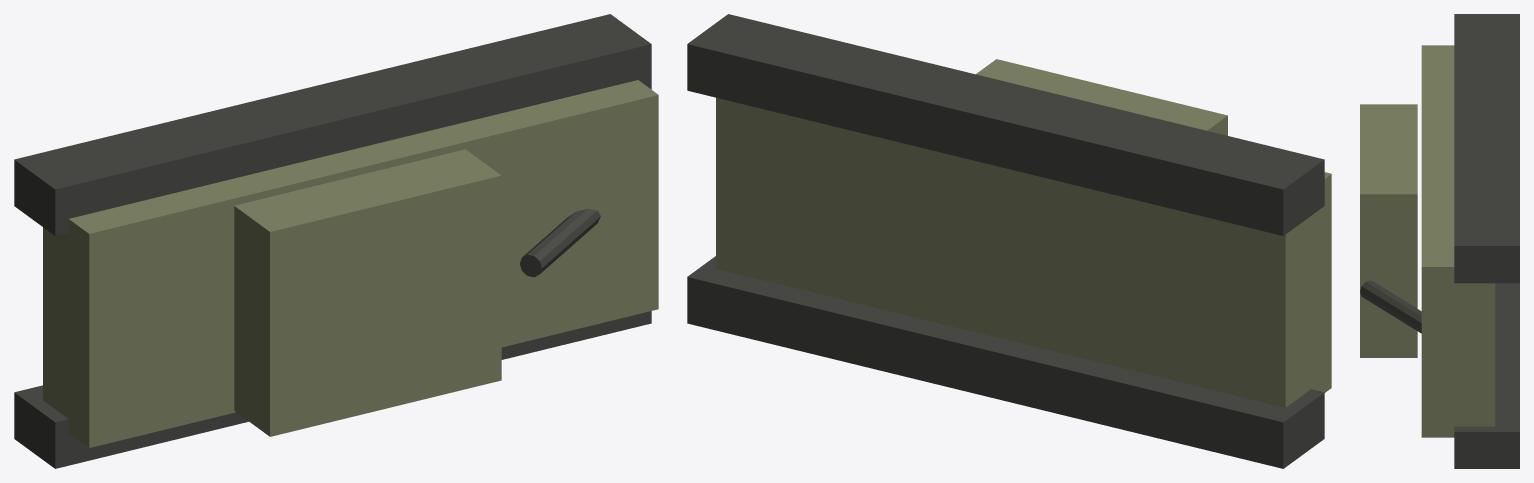
File: mortar.glb
3 renders of one model, left to right at view 1: azimuth 30°, elevation 25°; view 2: azimuth 150°, elevation 25°; view 3: azimuth 270°, elevation 25°, orthographic. The views are drawn at different scales.
Parts seen in each view (by area): view 1: geometry_0; view 2: geometry_0; view 3: geometry_0.
Boxes of the visible parts, <box> form: geometry_0: <box>14,14,658,468</box>; geometry_0: <box>687,14,1331,468</box>; geometry_0: <box>1360,14,1519,468</box>.
Bounding box in the file's own units: 6.7 × 3 × 1.95.
